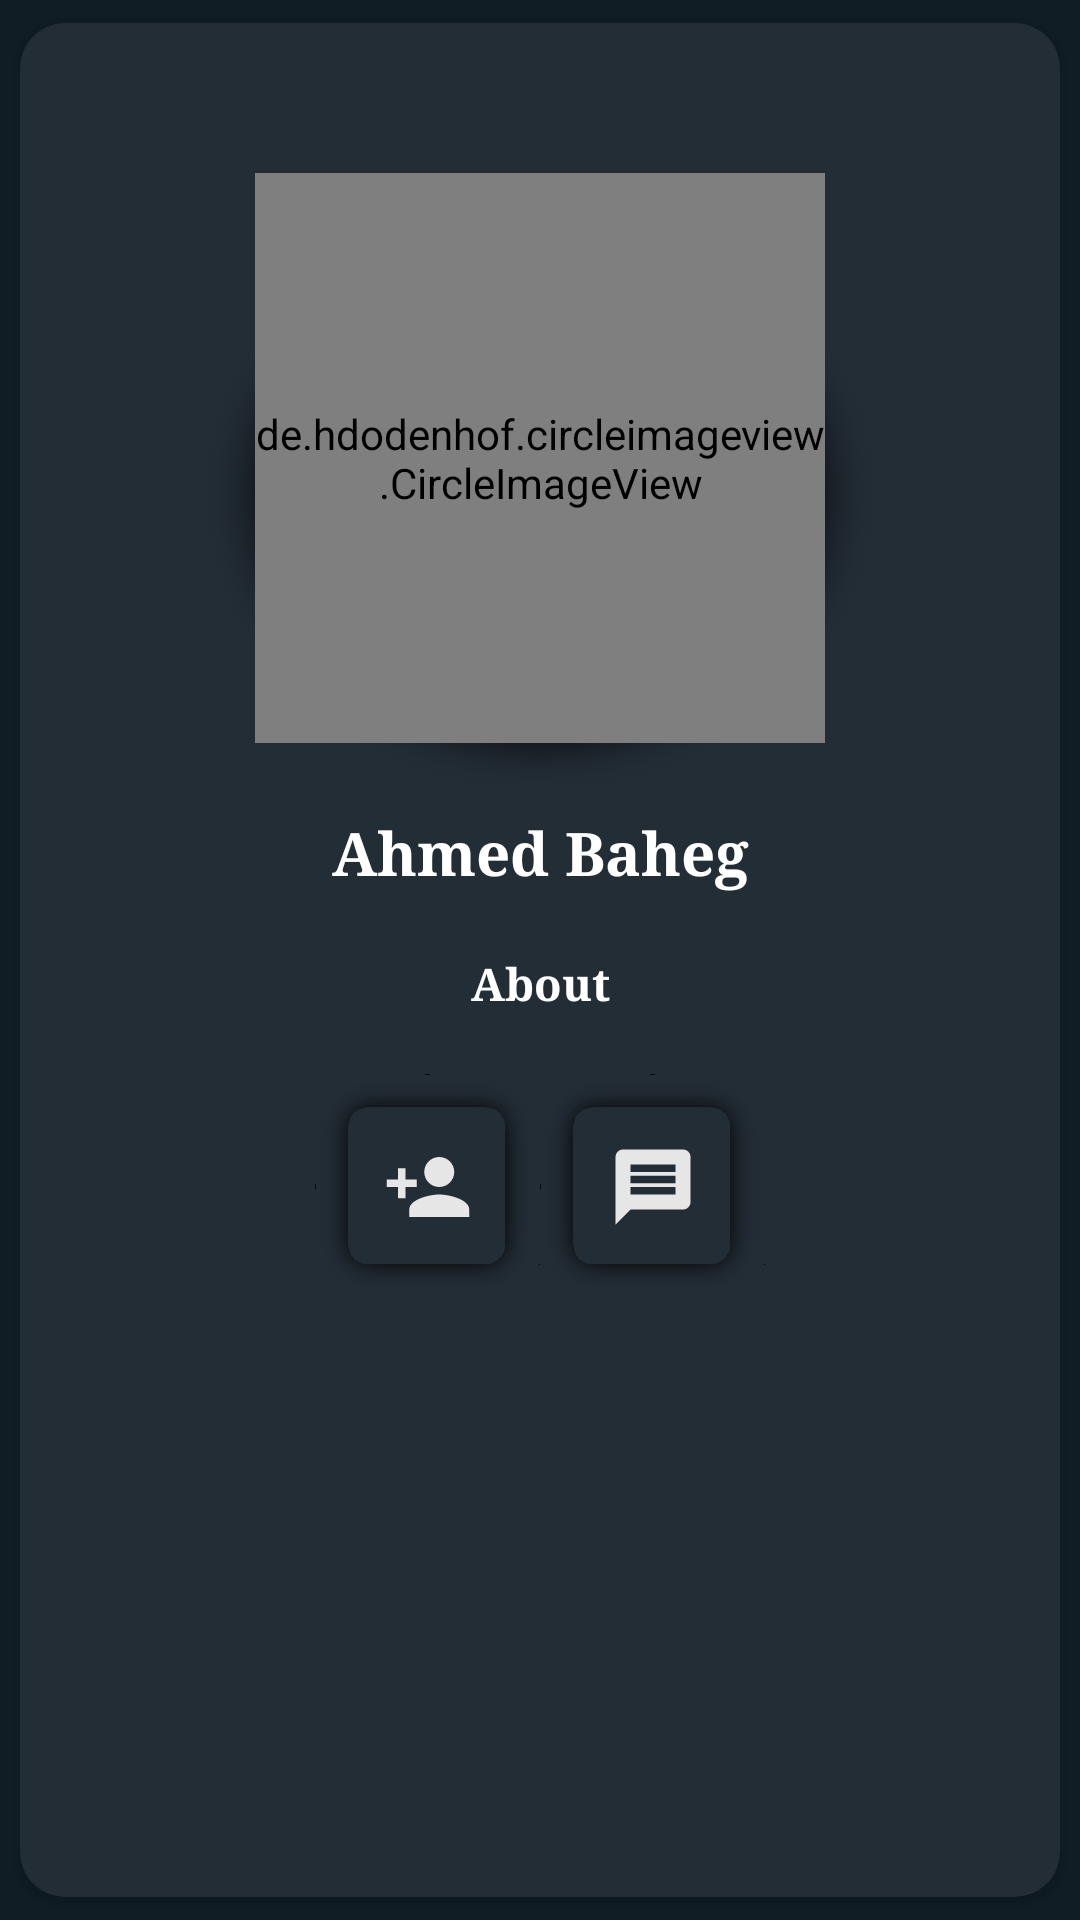

Icon click points for this 1080 × 1920 phone screenshot, format (x=x, y=y):
add friend: (x=427, y=1170)
message: (x=652, y=1170)
